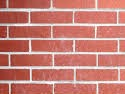brick: (32, 68, 74, 82), (31, 11, 73, 24), (75, 40, 118, 52), (9, 25, 51, 37), (53, 26, 95, 38), (76, 69, 118, 81), (75, 11, 116, 23), (31, 40, 73, 51), (54, 55, 96, 66), (11, 54, 52, 65), (54, 83, 96, 93), (10, 84, 52, 93), (97, 25, 125, 38), (98, 54, 125, 67), (1, 68, 30, 80), (53, 1, 95, 9), (1, 39, 29, 51), (1, 12, 29, 23), (9, 1, 51, 8), (98, 83, 125, 93), (97, 1, 125, 9), (1, 54, 10, 65), (119, 39, 125, 52), (1, 83, 8, 94), (118, 12, 124, 24), (1, 26, 7, 36), (119, 69, 125, 79), (1, 1, 8, 8)
